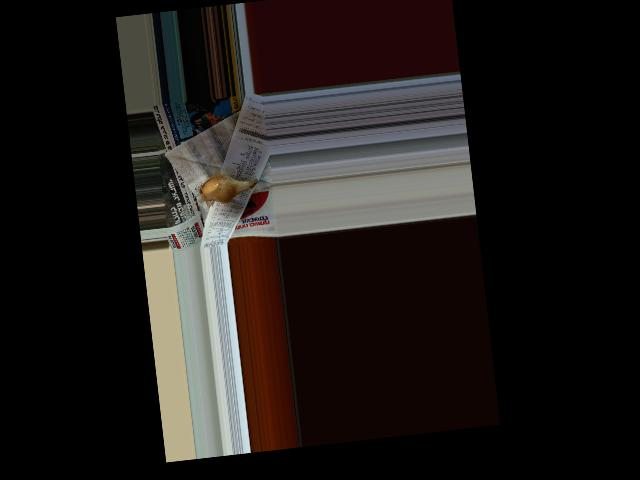onion: (195, 169, 244, 205)
